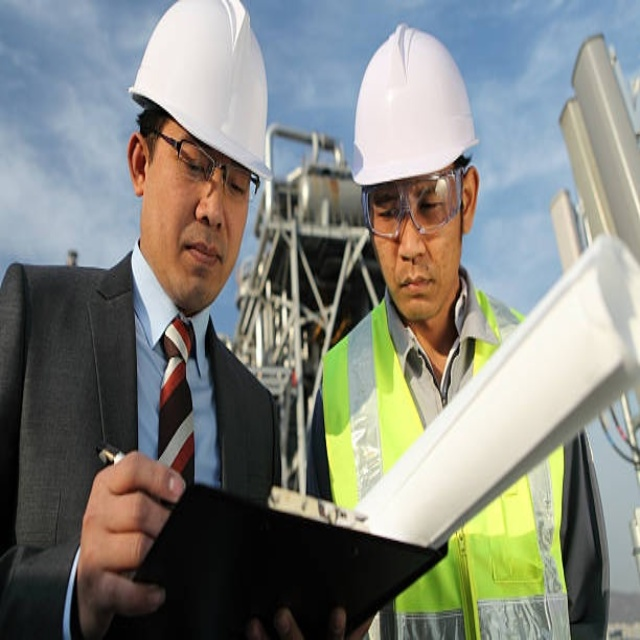Gafas: (150, 128, 260, 204), (362, 165, 468, 240)
Sin_guantes: (76, 450, 185, 638), (243, 601, 371, 640)
Sin_mascara: (168, 228, 226, 298), (393, 267, 440, 312)
